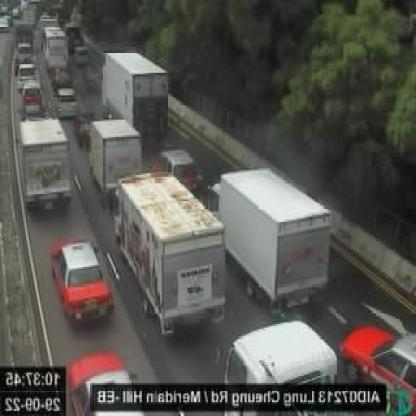Car: (328, 318, 416, 412), (45, 232, 119, 331), (55, 347, 148, 414), (150, 142, 206, 189), (53, 87, 81, 118), (21, 83, 44, 111), (17, 61, 41, 83), (73, 42, 92, 68), (17, 43, 36, 62)
Truck: (196, 164, 336, 315), (107, 170, 228, 333), (95, 48, 173, 140), (20, 118, 78, 220), (86, 118, 148, 201), (42, 21, 70, 73)
